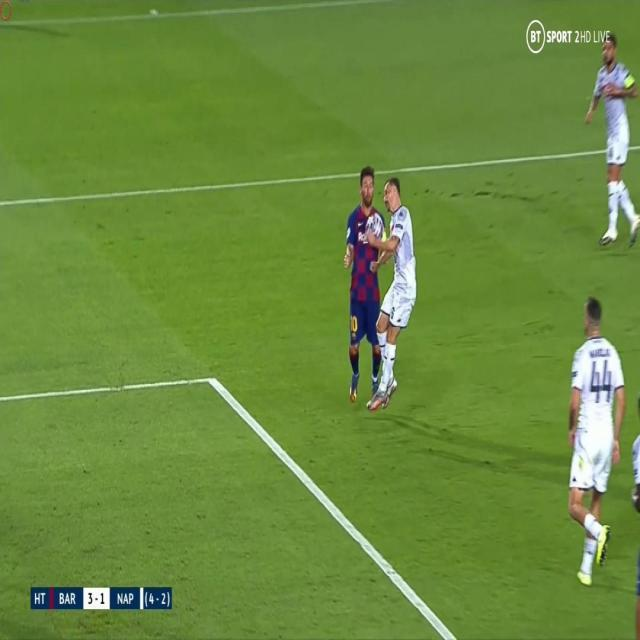ball: (363, 210, 385, 245)
player: (555, 287, 631, 589), (365, 169, 429, 409), (336, 159, 390, 411), (582, 28, 640, 252)
